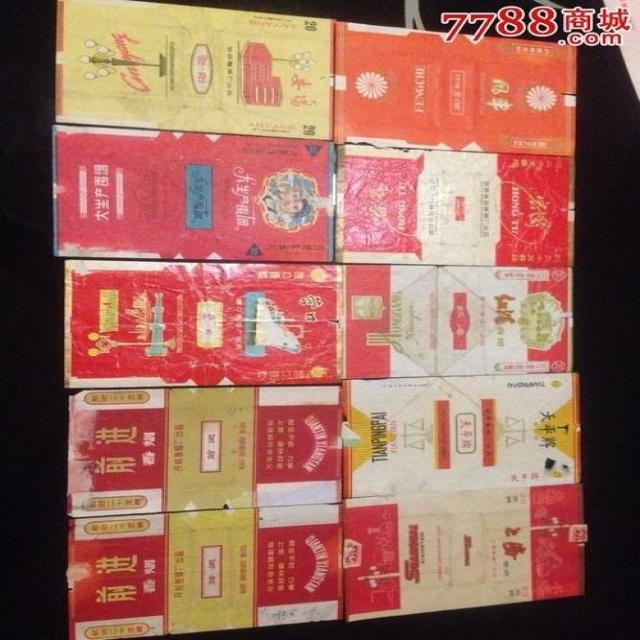box: (54, 0, 334, 142), (51, 124, 335, 263), (65, 504, 346, 640), (64, 384, 343, 518), (63, 258, 344, 389), (343, 483, 586, 623), (334, 21, 579, 156), (342, 374, 582, 498), (334, 144, 575, 267), (342, 262, 573, 379)
